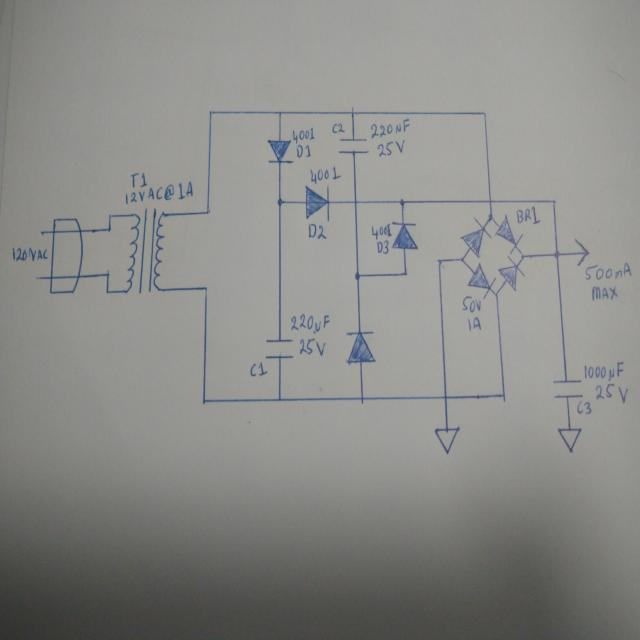capacitor: (264, 337, 294, 363), (552, 379, 584, 398), (338, 136, 369, 155)
crossover: (486, 197, 494, 206), (352, 196, 358, 206), (442, 394, 448, 401)
diode: (459, 217, 491, 258), (345, 330, 376, 366), (466, 262, 496, 299), (495, 215, 523, 254), (304, 183, 329, 223), (498, 256, 525, 291), (266, 137, 294, 166), (391, 220, 416, 250)
ground: (433, 426, 460, 456), (557, 427, 582, 453)
junction: (275, 195, 284, 208), (397, 196, 406, 208), (354, 270, 363, 281), (553, 248, 561, 260), (402, 268, 410, 278), (486, 212, 494, 222), (501, 392, 509, 402), (459, 254, 466, 264), (200, 397, 207, 407), (435, 257, 442, 267), (359, 395, 365, 404), (350, 108, 356, 116), (481, 110, 487, 117), (520, 252, 526, 259), (551, 198, 557, 205), (104, 270, 110, 277), (104, 289, 110, 296), (105, 226, 112, 232), (494, 290, 499, 298), (208, 108, 213, 116), (277, 396, 282, 404), (205, 208, 210, 215), (203, 284, 208, 291), (107, 212, 112, 219), (278, 108, 282, 116)
terminal: (574, 236, 590, 266), (33, 274, 42, 284), (37, 227, 45, 237)
text: (124, 181, 194, 205), (585, 261, 631, 281), (370, 117, 410, 139), (583, 360, 624, 381), (291, 312, 329, 333), (595, 383, 628, 405), (11, 245, 49, 262), (309, 166, 342, 184), (299, 337, 326, 358), (376, 139, 405, 158), (590, 283, 618, 302), (516, 206, 541, 226), (461, 295, 483, 312), (292, 126, 315, 142), (308, 223, 328, 240), (372, 223, 392, 239), (130, 171, 148, 188), (249, 362, 267, 378), (295, 142, 312, 158), (576, 400, 592, 416), (467, 315, 481, 333), (331, 121, 345, 134), (376, 240, 389, 254)
transformer: (124, 206, 167, 296)
